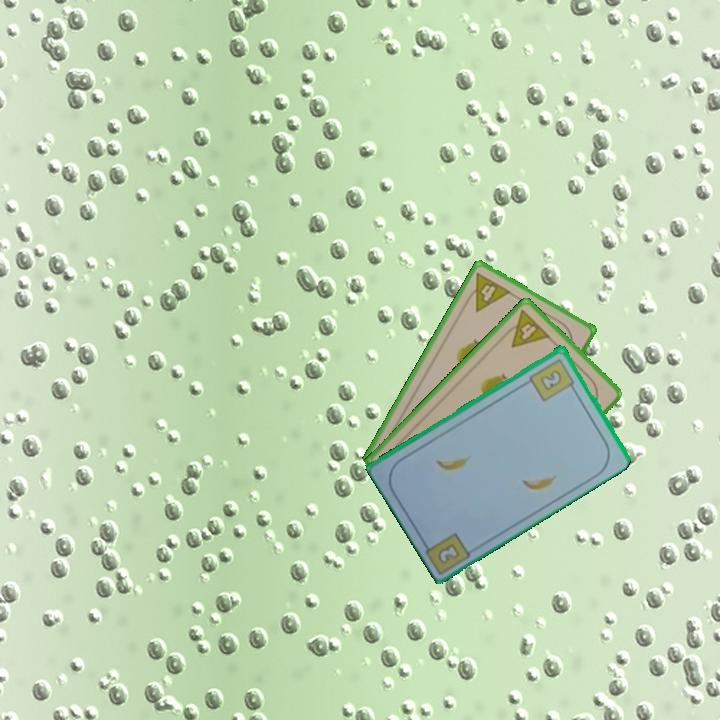2b: (526, 354, 578, 404), (434, 540, 463, 567)
4p: (460, 269, 514, 314), (498, 306, 553, 350)
